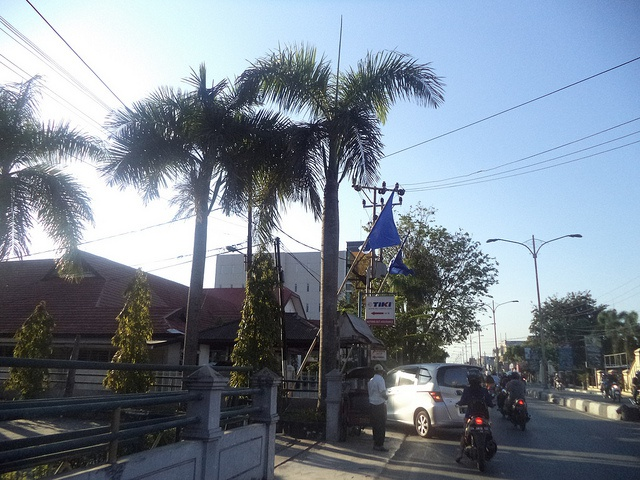non-vehicle: (454, 389, 496, 472), (507, 398, 527, 432)
